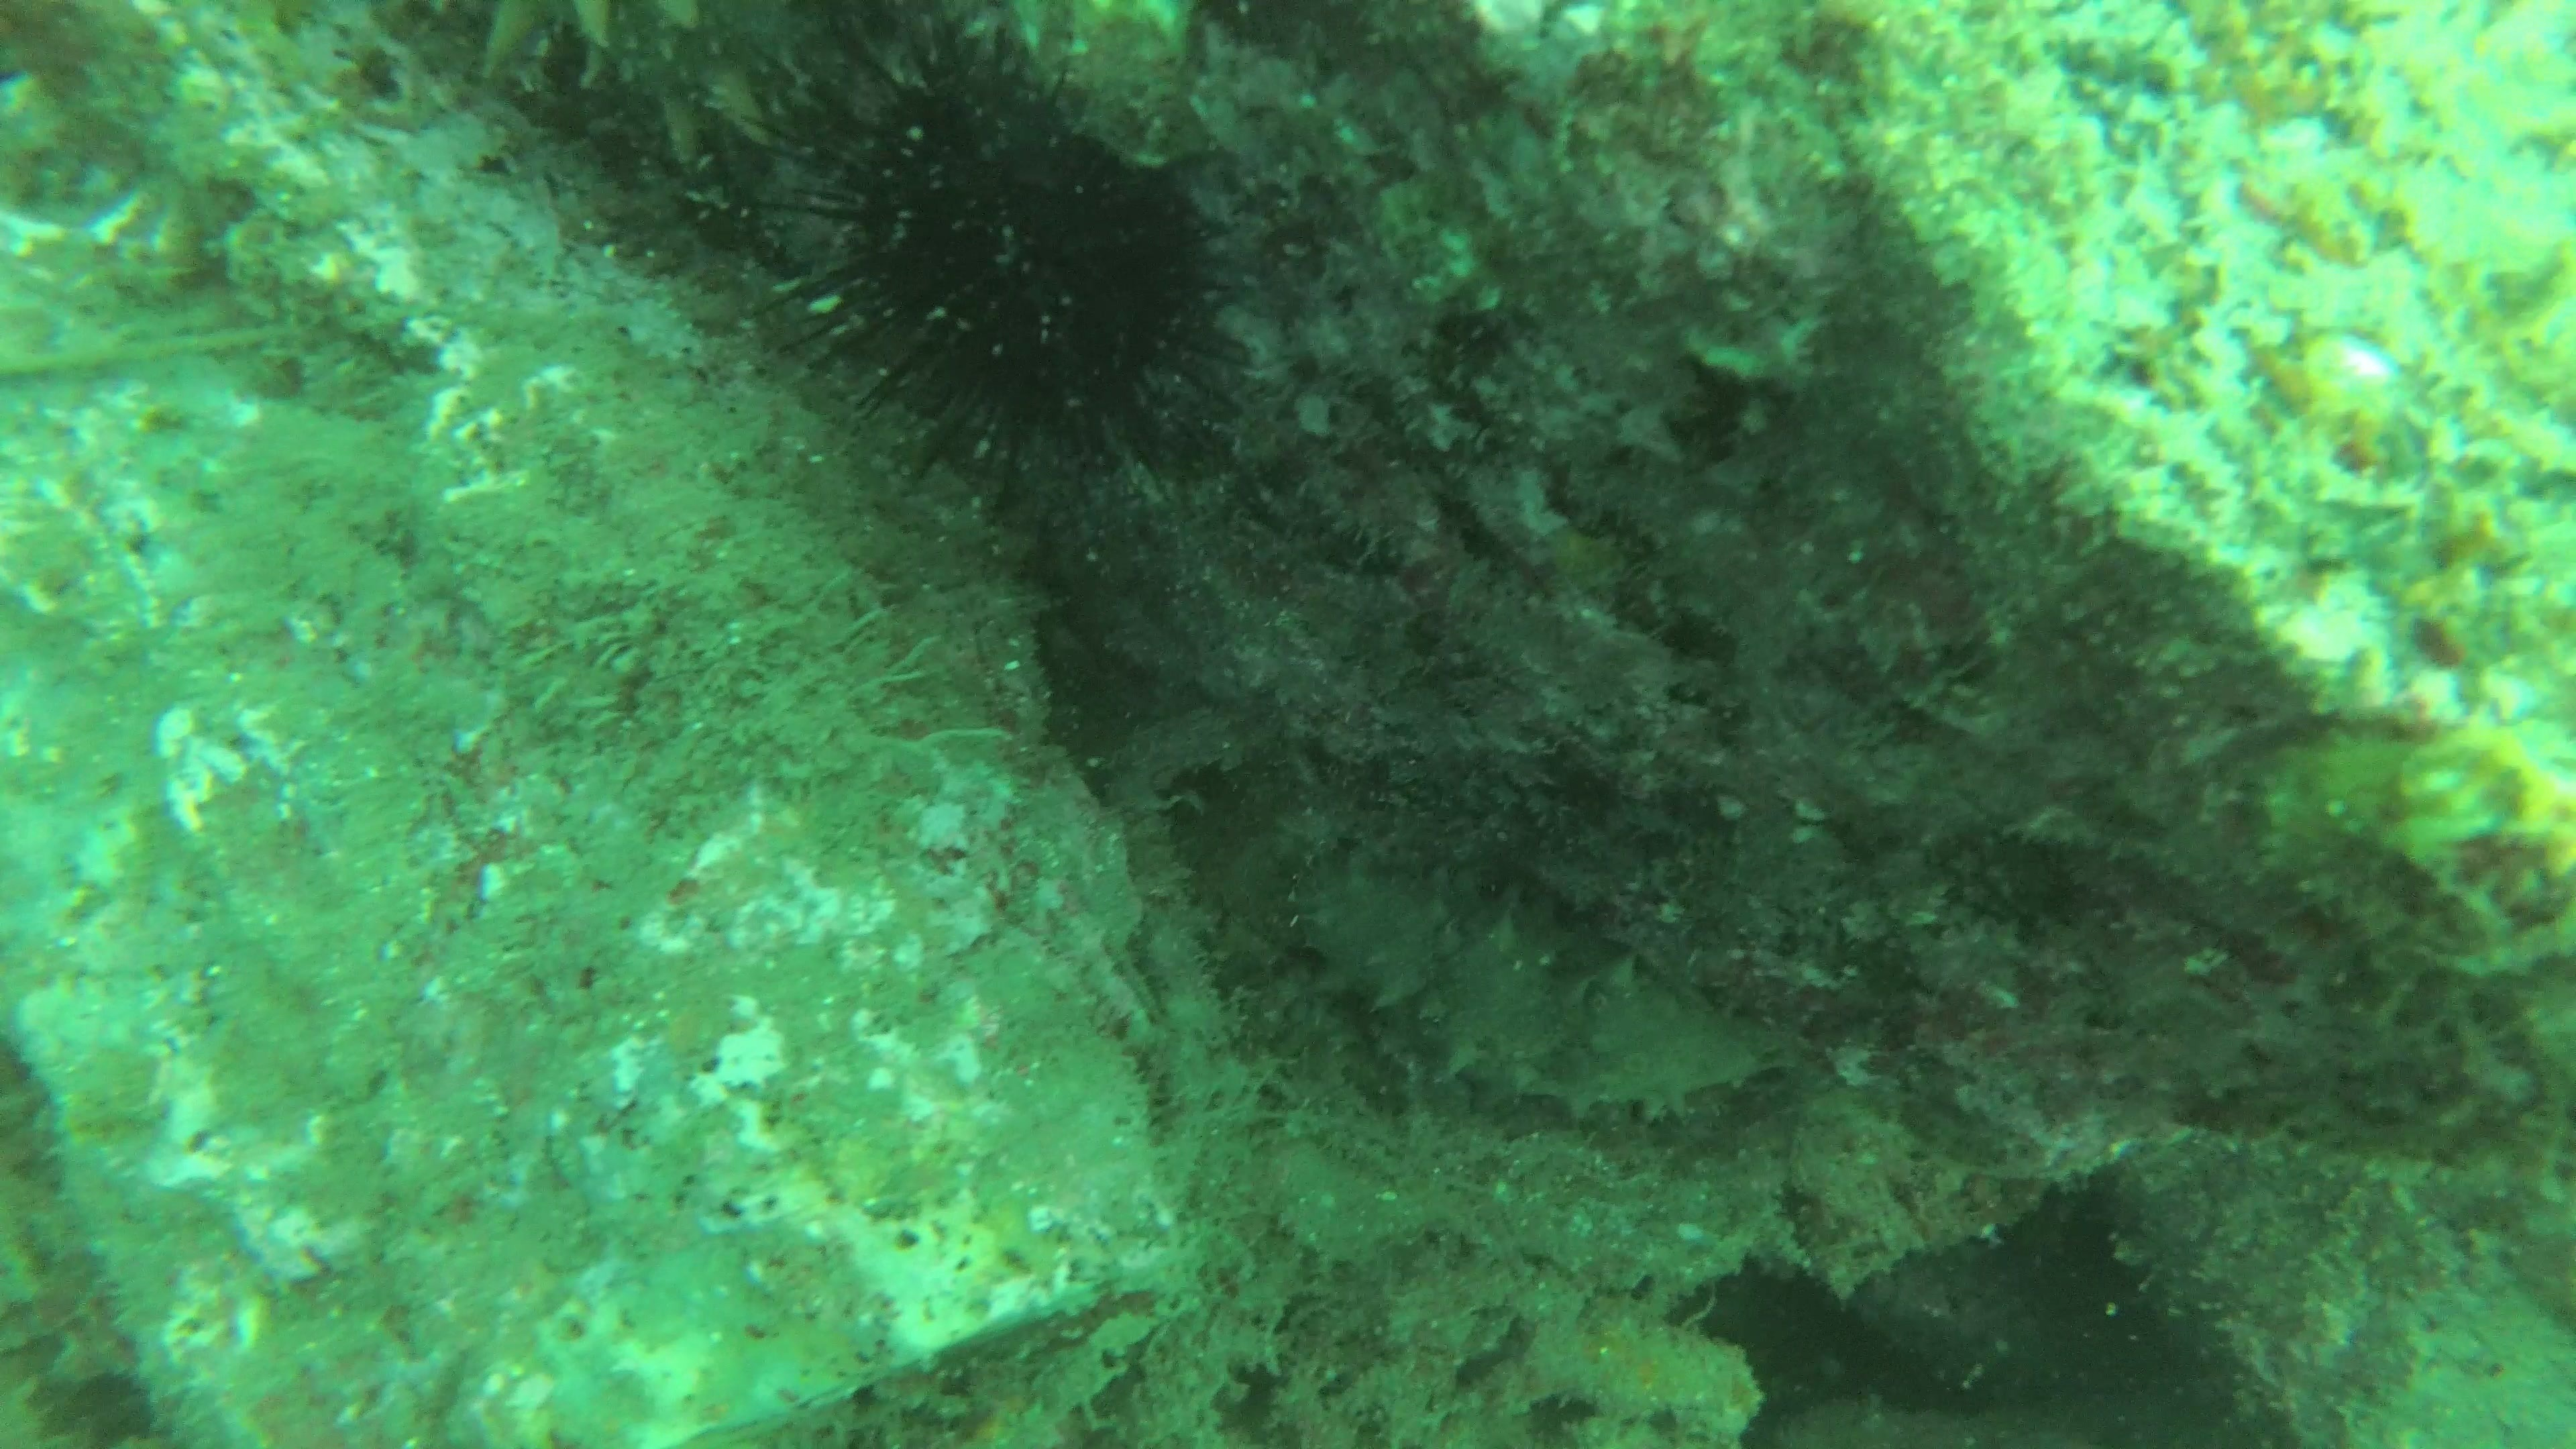echinus: (741, 21, 1253, 488)
holothurian: (1279, 846, 1803, 1138)
